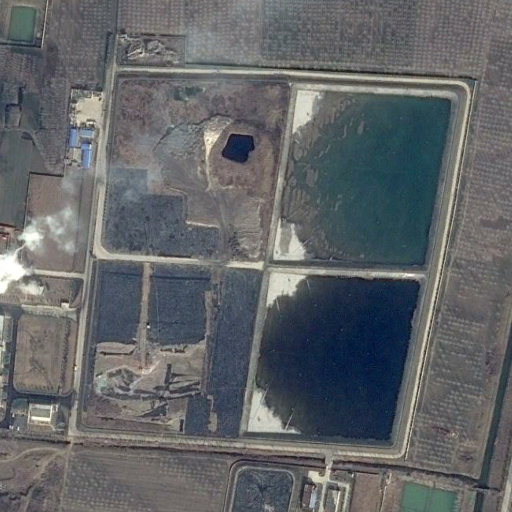lf: (75, 70, 470, 460)
